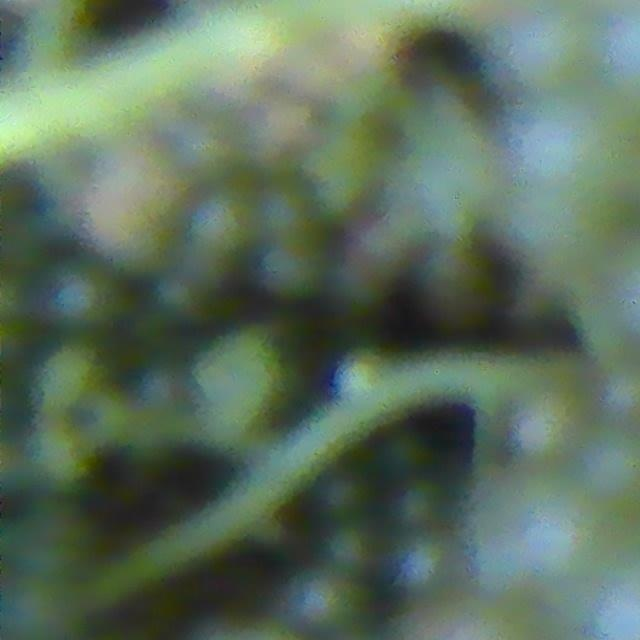SeaGrape: (494, 97, 623, 202), (507, 489, 618, 602), (192, 326, 291, 435), (499, 16, 585, 92), (501, 202, 580, 273), (510, 385, 582, 461), (185, 187, 257, 261), (285, 567, 359, 635), (578, 428, 640, 505), (169, 116, 235, 182), (33, 346, 98, 413), (46, 268, 111, 330), (391, 531, 453, 596), (257, 237, 322, 298), (321, 522, 378, 578), (601, 362, 640, 424)
